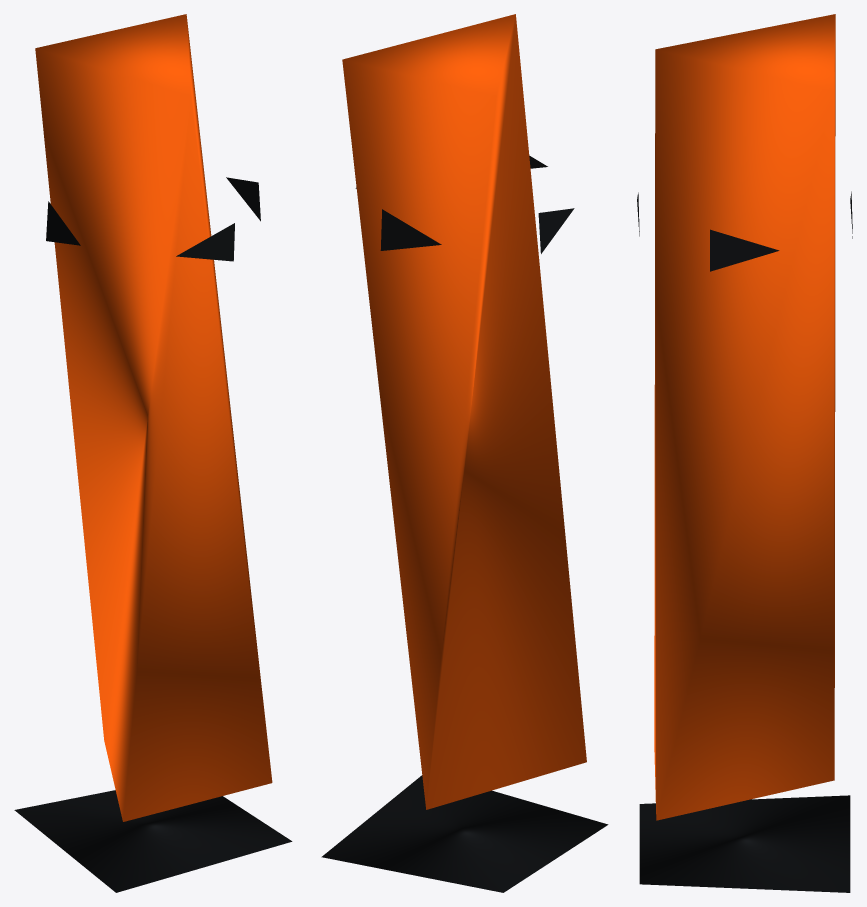
Rendered from pylon_college_lod2.glb.
3 views of the same model, side by side, from view 1: azimuth 30°, elevation 25°; view 2: azimuth 150°, elevation 25°; view 3: azimuth 270°, elevation 25° (orthographic). The views are drawn at different scales.
Parts seen in each view (by area): view 1: pylon_college__prop_orange, pylon_college__prop_black; view 2: pylon_college__prop_orange, pylon_college__prop_black; view 3: pylon_college__prop_orange, pylon_college__prop_black.
Boxes of the visible parts, x1,y1,x2,y2 form: pylon_college__prop_orange: [35, 14, 272, 821]; pylon_college__prop_black: [14, 177, 292, 892]; pylon_college__prop_orange: [342, 14, 586, 809]; pylon_college__prop_black: [321, 155, 608, 892]; pylon_college__prop_orange: [654, 14, 835, 820]; pylon_college__prop_black: [637, 191, 852, 892].
Bounding box in the file's own units: 0.1049 × 0.4274 × 0.1049.
